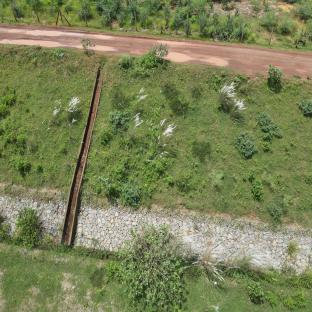rock_toe: (74, 205, 311, 279), (0, 195, 66, 248)
slope_drain: (58, 67, 107, 248)
toe_drain: (0, 236, 312, 289)
vegetation: (111, 225, 184, 312), (15, 208, 42, 249)
